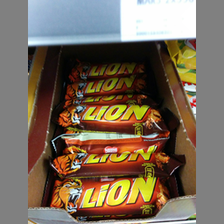chocolate: (40, 175, 183, 210), (42, 152, 181, 177), (51, 103, 168, 131), (60, 80, 148, 96)
